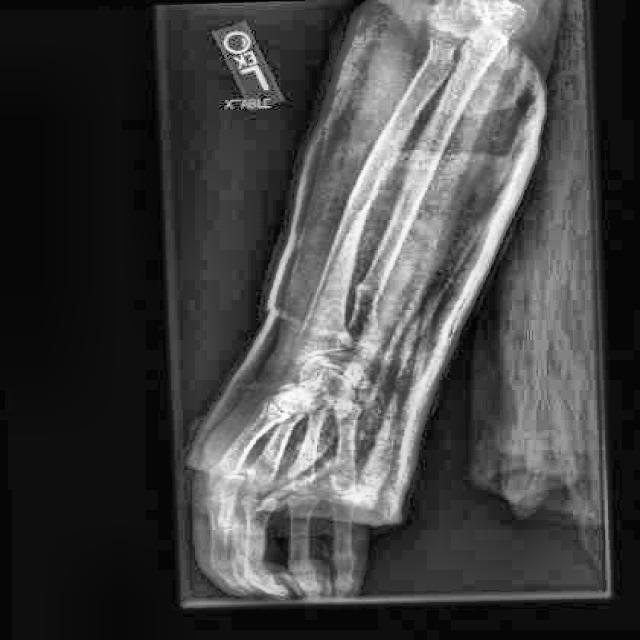forearm fracture: (324, 258, 394, 325)
